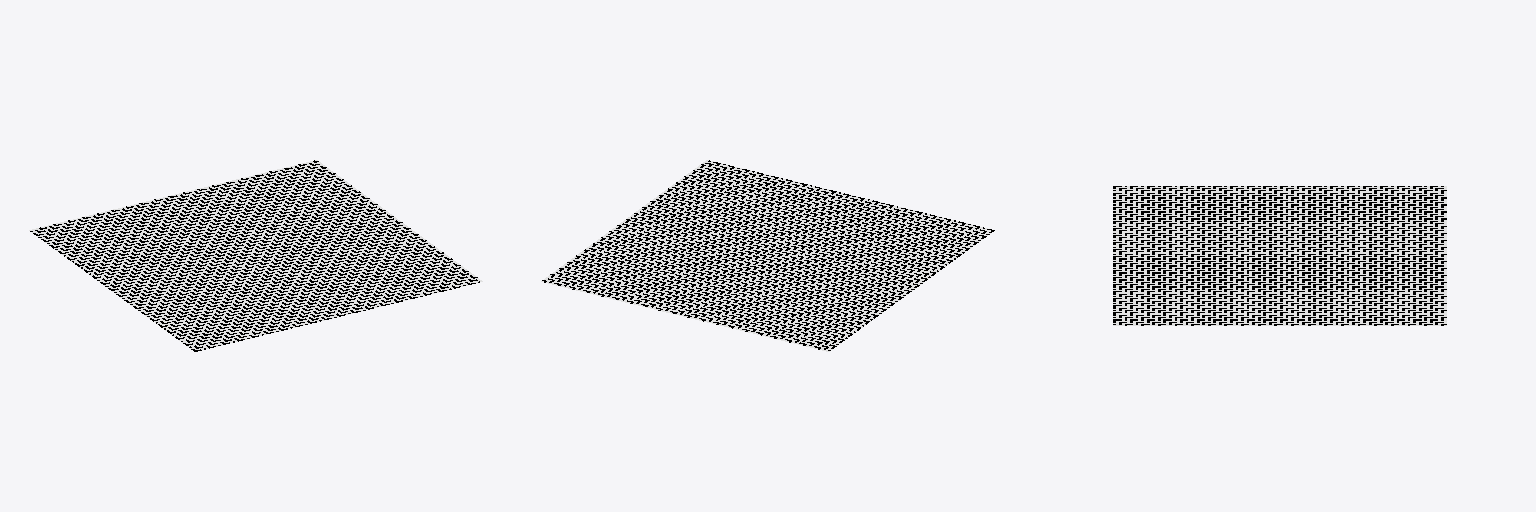
3 views of the same model, side by side, from view 1: azimuth 30°, elevation 25°; view 2: azimuth 150°, elevation 25°; view 3: azimuth 270°, elevation 25° (orthographic).
Visible parts, largest first — view 1: Plane; view 2: Plane; view 3: Plane.
Part boxes in pixels (x1,y1,x2,y2): Plane: (29,160,482,351); Plane: (541,160,994,351); Plane: (1113,186,1446,325).
Bounding box in the file's own units: 2 × 0 × 2.
1 materials, 1 textured.